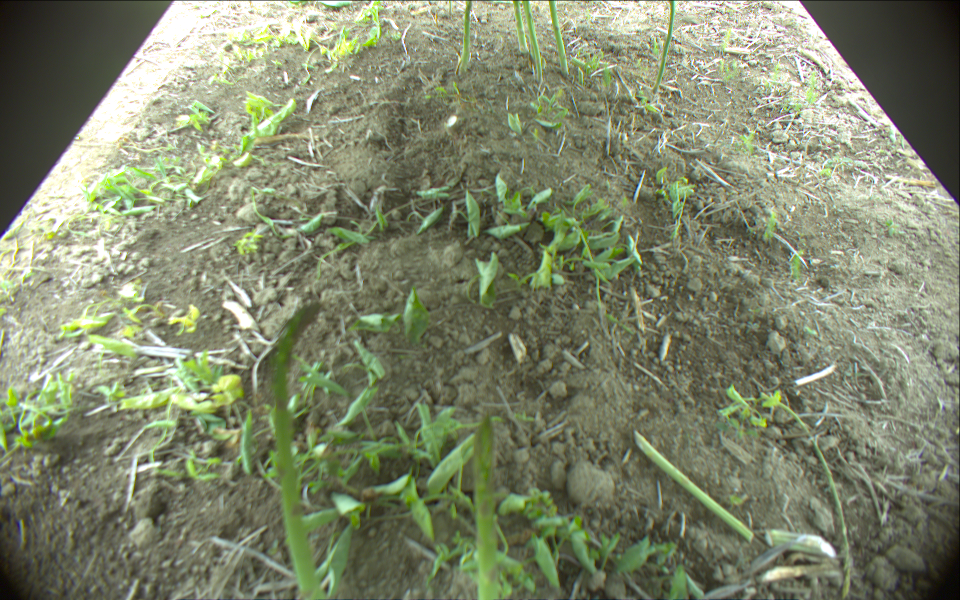aspa: (271, 303, 327, 600), (634, 430, 754, 542), (471, 416, 503, 600), (652, 1, 676, 95), (522, 1, 544, 84), (547, 1, 570, 77), (457, 1, 473, 76), (514, 1, 530, 52), (571, 55, 589, 68), (578, 67, 584, 87), (447, 1, 453, 17)
